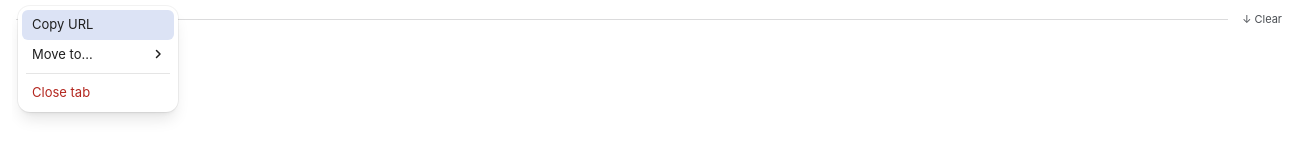
Test case: closes the menu on Escape without sending a command
Click the menu item "Move to…" at [98, 54], box [22,40,174,69]
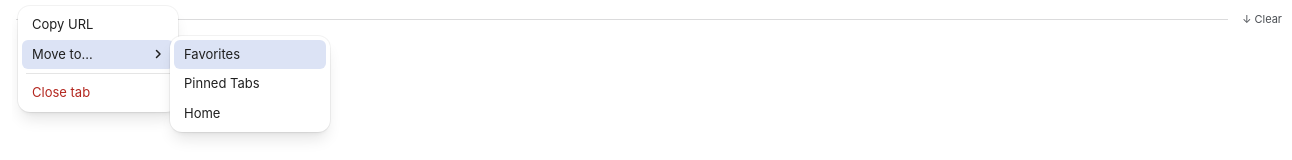
Press Escape
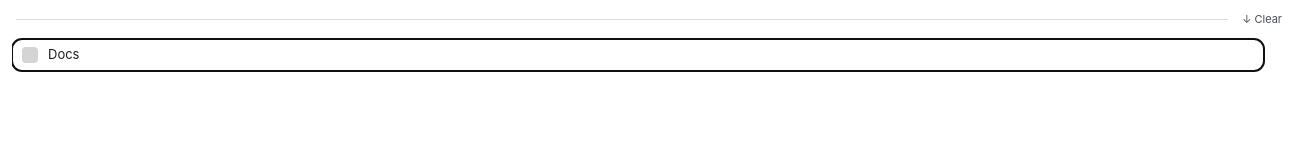
Result: the menu is gone
